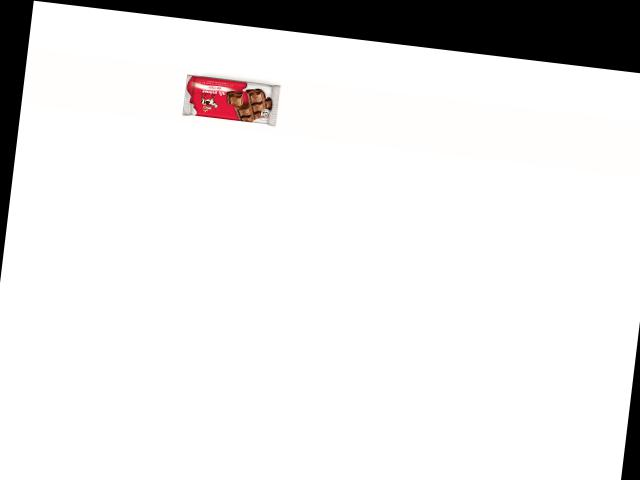chocolate: (167, 50, 284, 121)
